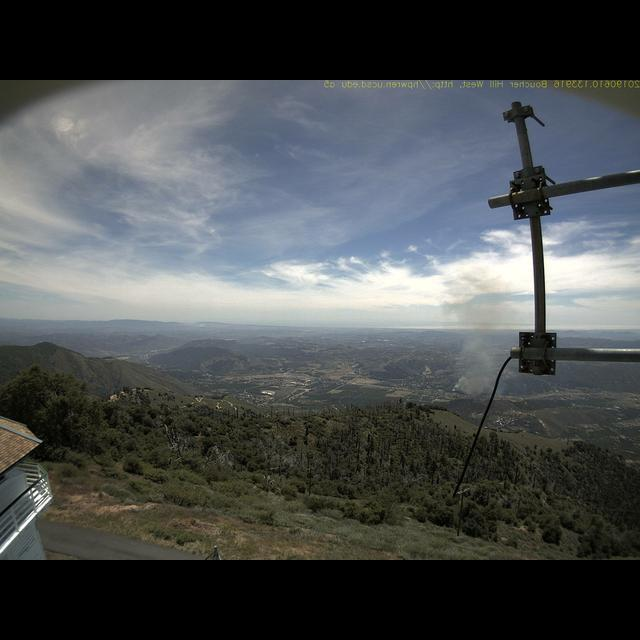Smoke: (437, 269, 523, 397)
